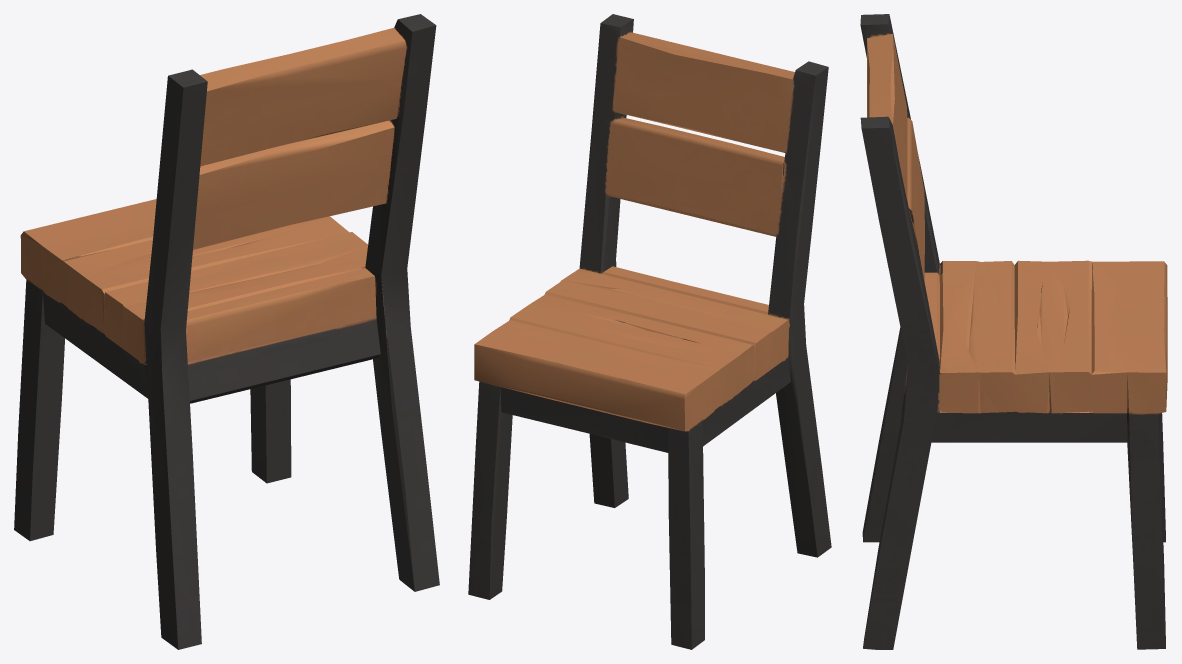
The model's file is seat_cafe-table_v2.glb.
3 views of the same model, side by side, from view 1: azimuth 30°, elevation 25°; view 2: azimuth 150°, elevation 25°; view 3: azimuth 270°, elevation 25° (orthographic). The views are drawn at different scales.
Parts seen in each view (by area): view 1: body; view 2: body; view 3: body.
Boxes of the visible parts, left/top/right/bottom form: body: left=14, top=14, right=439, bottom=649; body: left=468, top=14, right=831, bottom=649; body: left=860, top=14, right=1167, bottom=649.
Size of the model in its own units: 0.4383 by 0.9026 by 0.4814.
1 material, 1 textured.
